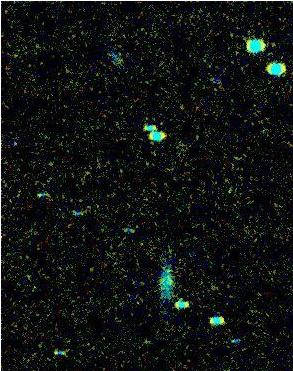star: (154, 255, 184, 285)
